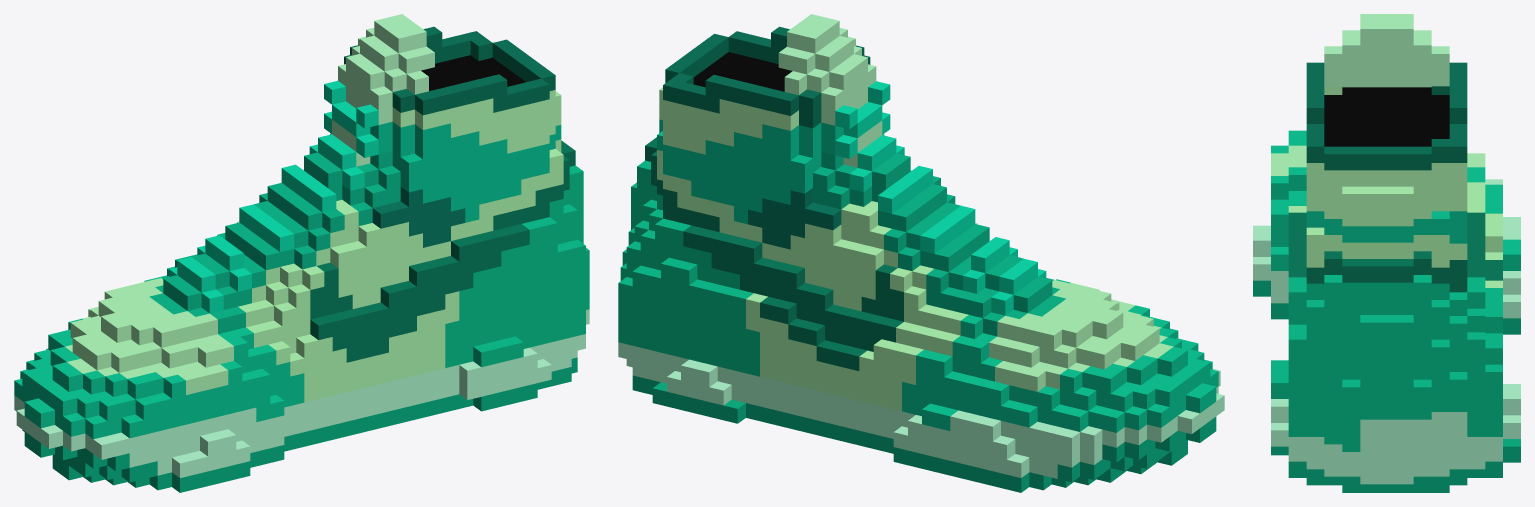
The model's file is Barely Green.fbx.
3 views of the same model, side by side, from view 1: azimuth 30°, elevation 25°; view 2: azimuth 150°, elevation 25°; view 3: azimuth 270°, elevation 25° (orthographic). The views are drawn at different scales.
Parts seen in each view (by area): view 1: Untitled; view 2: Untitled; view 3: Untitled.
Boxes of the visible parts, left/top/right/bottom form: Untitled: left=14, top=14, right=589, bottom=492; Untitled: left=618, top=14, right=1224, bottom=492; Untitled: left=1253, top=14, right=1520, bottom=492.
Bounding box in the file's own units: 390 × 240 × 150.
